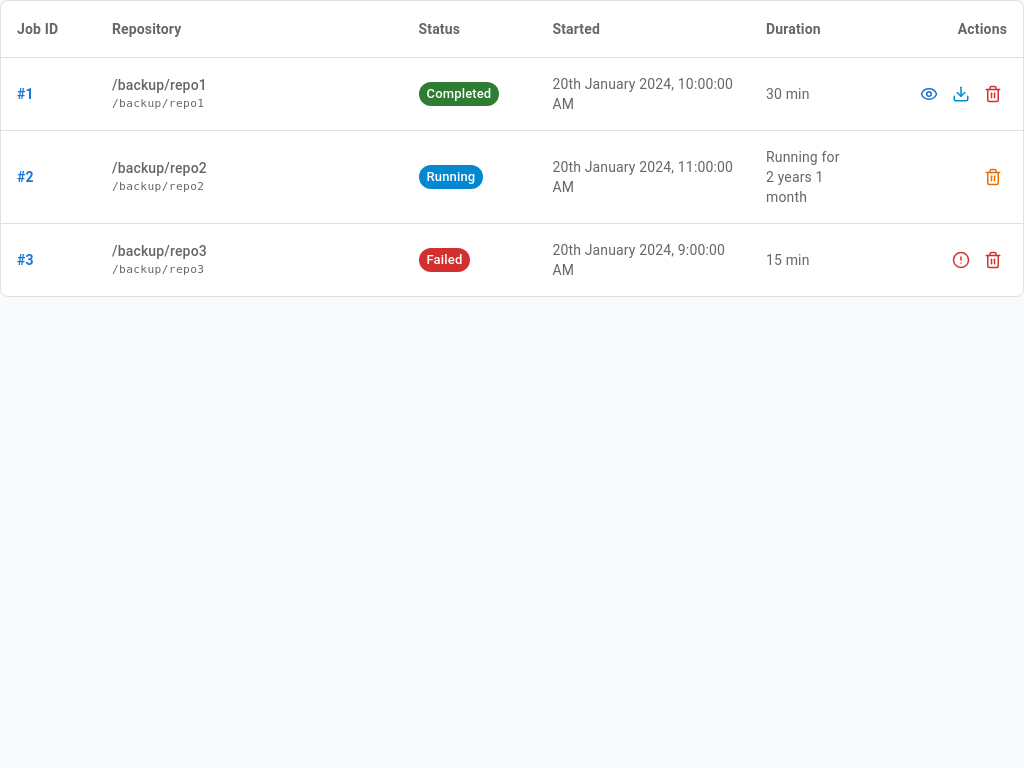
Test: BackupJobsTable › Delete Job Action › opens delete confirmation dialog when delete button clicked
The width and height of the screenshot is (1024, 768).
What coordinates should you click on to do the following:
click the button named "Delete Job (Admin Only)" in the row of "Completed"
I would click on:
 (993, 94)
Its box is [979,80,1007,108].
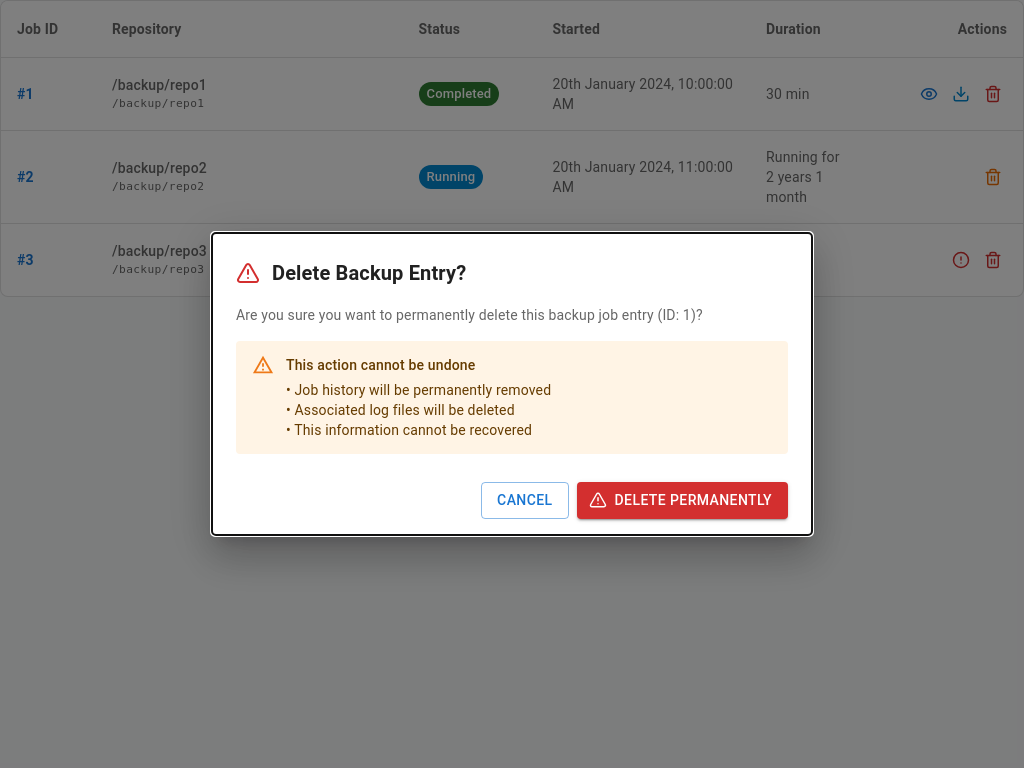
Result: the dialog is shown at [212,233,812,535]
Result: the heading "Delete Backup Entry?" is shown at [272,257,466,289]
